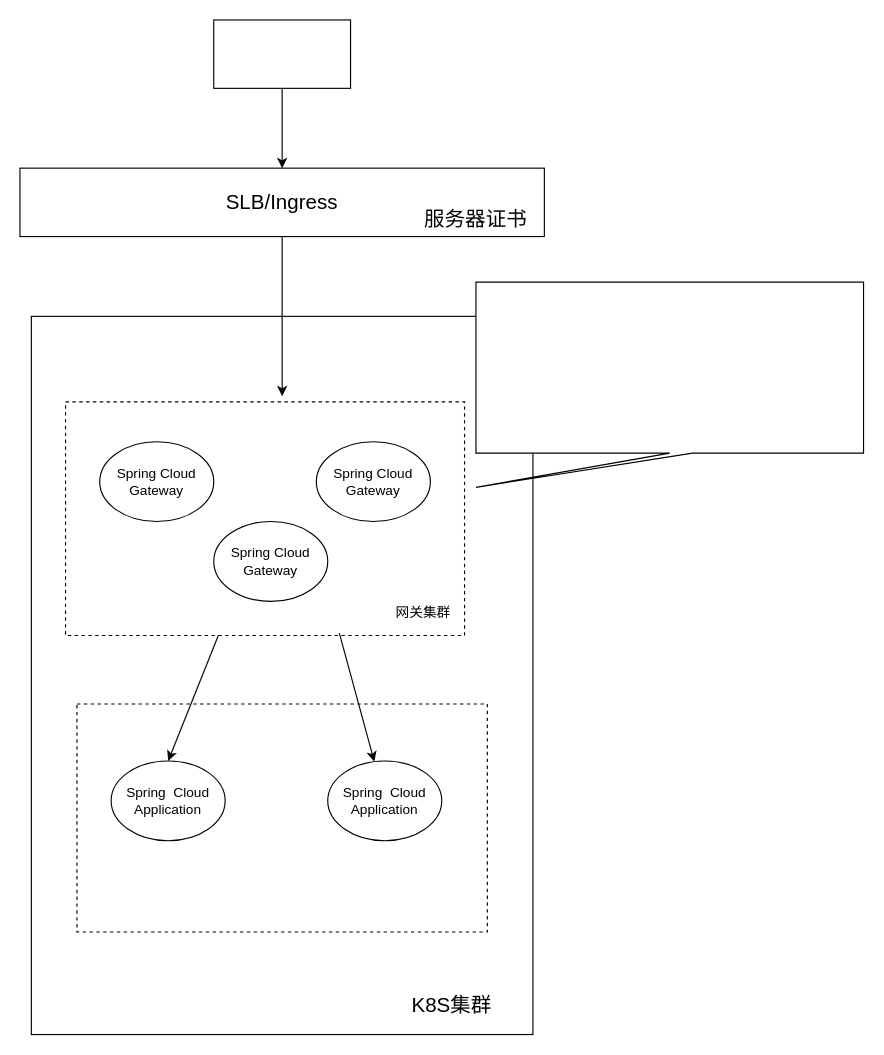
This 884x1055 diagram has some shape labels left out. Each missing label, with the box of its shape:
1、API动态路由 2、访问鉴权 3、服务实例动态发现 4、数据解密，验签 5、API限流，降级 6、网关内部异常统一处理: (475, 281, 864, 487)
客户端: (213, 19, 351, 88)
